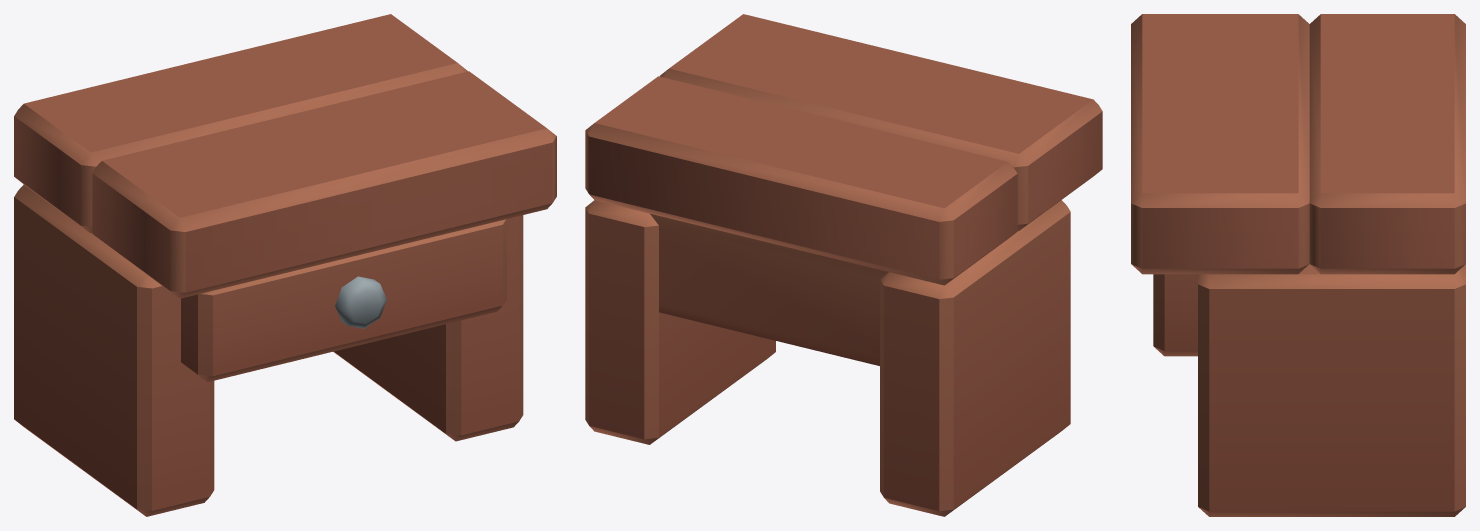
Rendered from Table_Small.obj.
The picture shows the model from 3 angles, left to right: view 1: azimuth 30°, elevation 25°; view 2: azimuth 150°, elevation 25°; view 3: azimuth 270°, elevation 25°; orthographic projection. The views are drawn at different scales.
Parts seen in each view (by area): view 1: Table_Small; view 2: Table_Small; view 3: Table_Small.
Part boxes in pixels (<box>): Table_Small: <box>14,14,556,516</box>; Table_Small: <box>585,14,1102,516</box>; Table_Small: <box>1131,14,1465,516</box>.
Bounding box in the file's own units: 1 × 0.8 × 0.75.
1 material, 1 textured.
